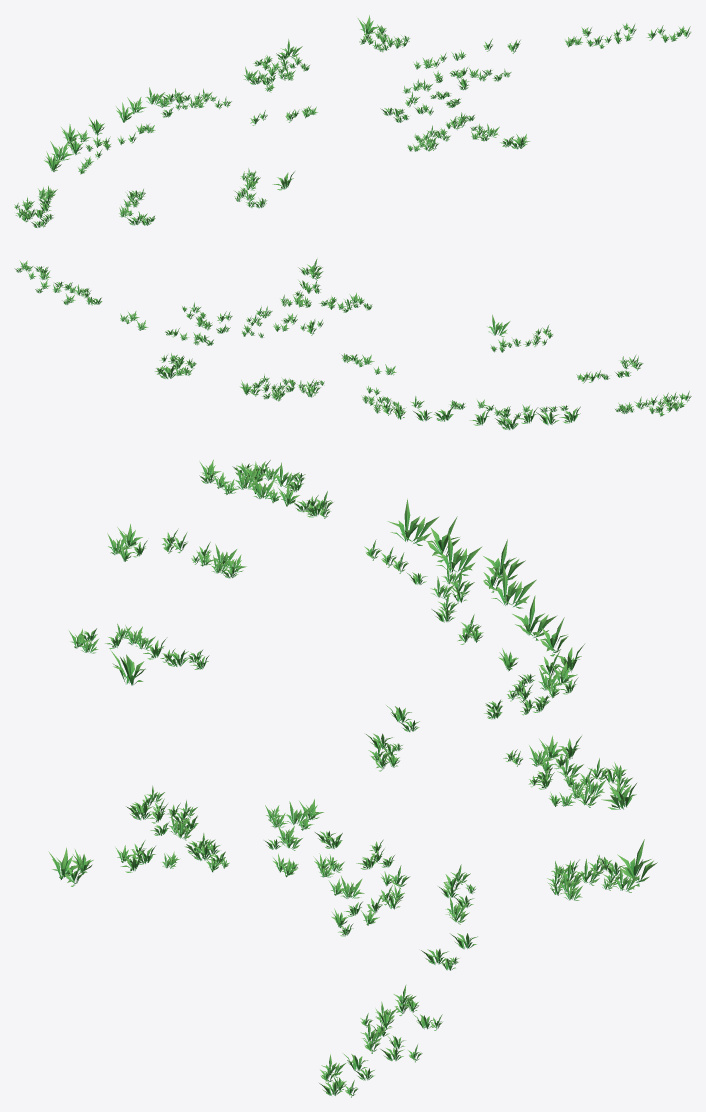
Rendered from area_12_1.FBX.
3 renders of one model, top to bottom at view 1: azimuth 30°, elevation 25°; view 2: azimuth 150°, elevation 25°; view 3: azimuth 270°, elevation 25°, orthographic. The views are drawn at different scales.
Visible parts, largest first — view 1: area_12_1; view 2: area_12_1; view 3: area_12_1.
Boxes of the visible parts, x1=… form: area_12_1: x1=14, y1=15, x2=691, y2=227; area_12_1: x1=14, y1=258, x2=691, y2=429; area_12_1: x1=48, y1=459, x2=657, y2=1097.
Bounding box in the file's own units: 76.34 × 2.06 × 31.33.
